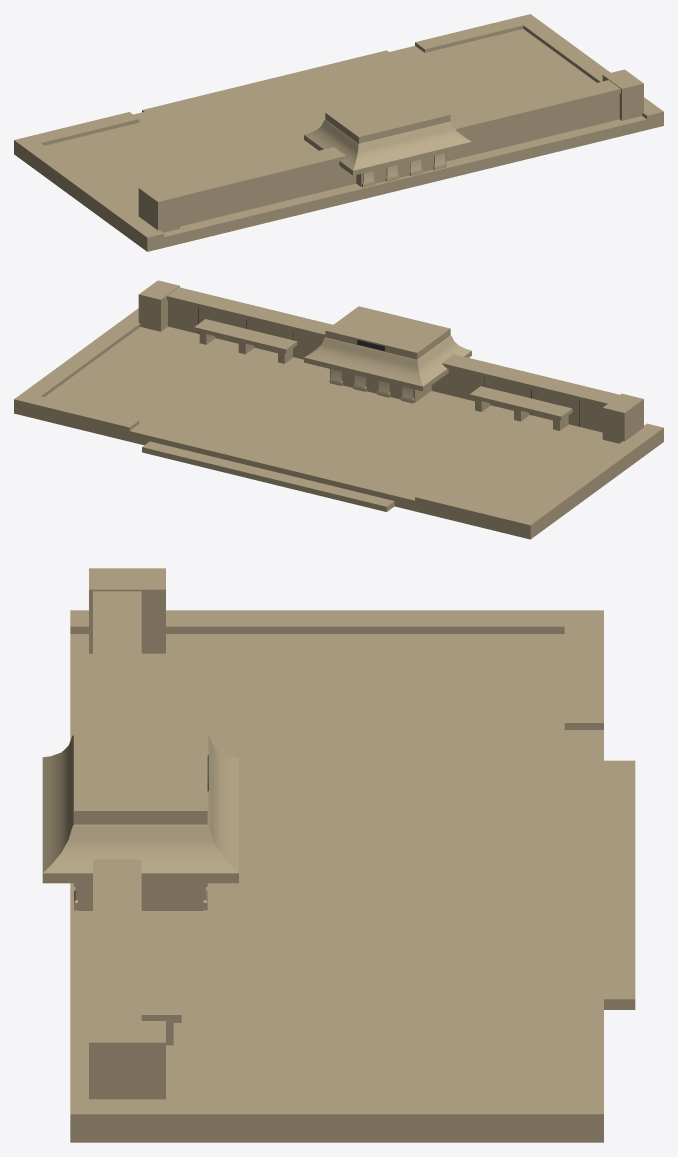
The model's file is mon_gardereiter.glb.
3 views of the same model, one above another, from view 1: azimuth 30°, elevation 25°; view 2: azimuth 150°, elevation 25°; view 3: azimuth 270°, elevation 25° (orthographic). The views are drawn at different scales.
Parts seen in each view (by area): view 1: mon_gardereiter; view 2: mon_gardereiter; view 3: mon_gardereiter.
Part boxes in pixels (box(x1,y1,x2,y2)): mon_gardereiter: box(14, 14, 663, 251); mon_gardereiter: box(14, 280, 663, 539); mon_gardereiter: box(42, 568, 635, 1142).
Size of the model in its own units: 15.2 by 1.75 by 7.55.
